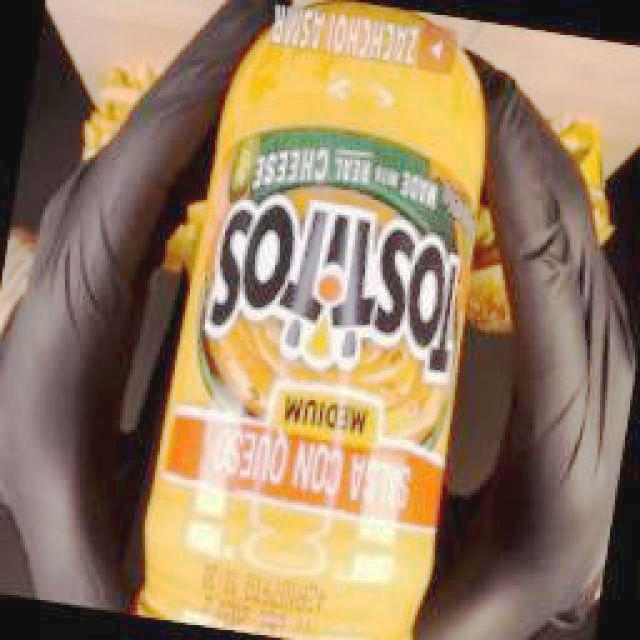tostitos cheese dip sauce: (134, 2, 488, 640)
